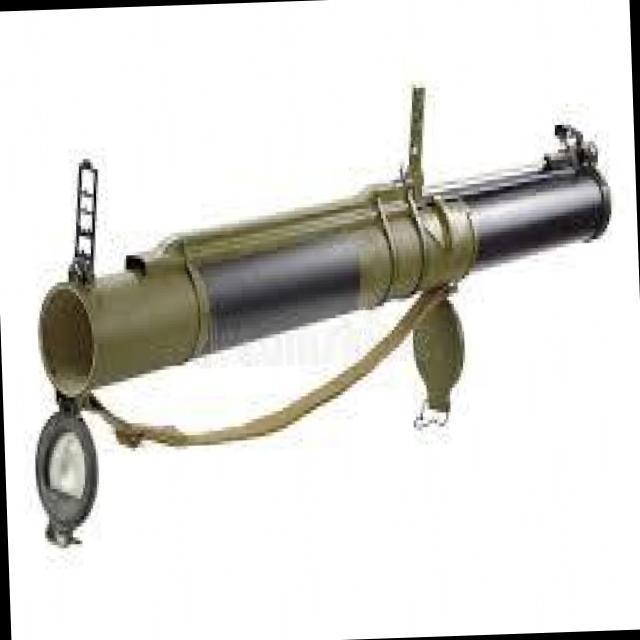rocket: (22, 105, 623, 545)
